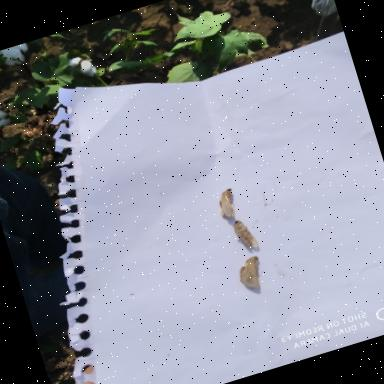abw: (232, 253, 271, 298), (227, 213, 262, 256), (211, 183, 244, 222)
